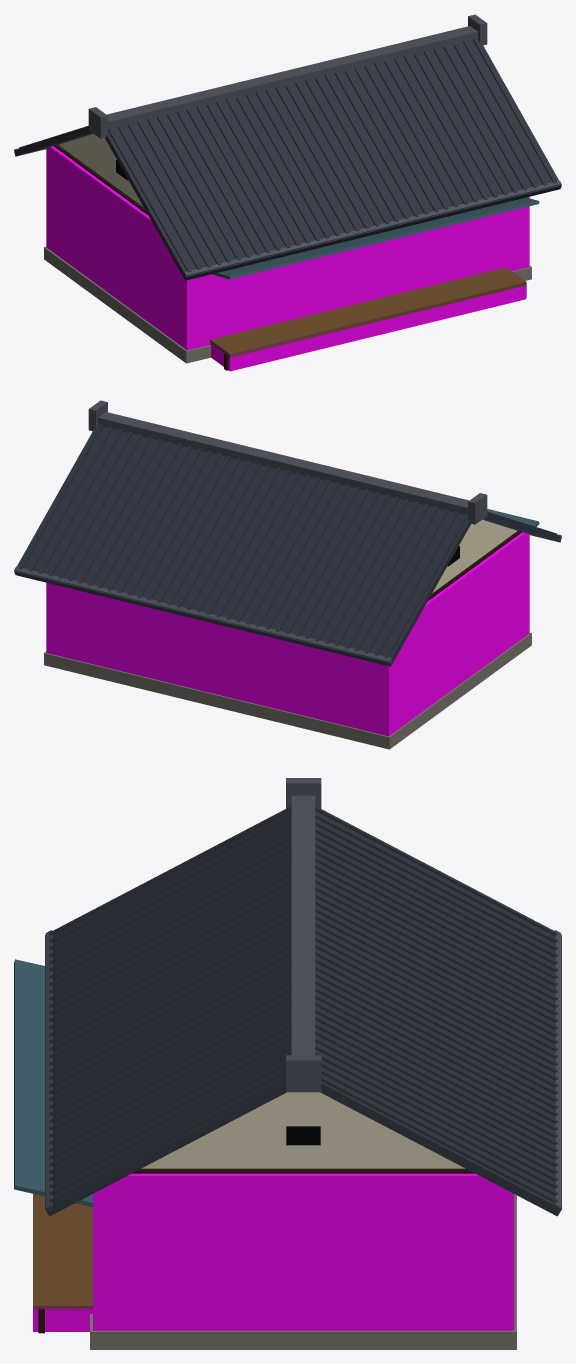
The model's file is Minka.fbx.
3 views of the same model, one above another, from view 1: azimuth 30°, elevation 25°; view 2: azimuth 150°, elevation 25°; view 3: azimuth 270°, elevation 25° (orthographic). The views are drawn at different scales.
Parts seen in each view (by area): view 1: Minka, COL_Minka_0, COL_Minka_1; view 2: Minka, COL_Minka_0; view 3: Minka, COL_Minka_0, COL_Minka_1.
Part boxes in pixels (x1,y1,x2,y2): Minka: [14, 14, 561, 370]; COL_Minka_0: [46, 146, 529, 350]; COL_Minka_1: [210, 285, 526, 371]; Minka: [14, 400, 561, 749]; COL_Minka_0: [46, 532, 529, 736]; Minka: [14, 778, 561, 1349]; COL_Minka_0: [93, 1173, 514, 1330]; COL_Minka_1: [33, 1306, 92, 1331].
Size of the model in its own units: 11.74 by 5.9 by 9.63.
